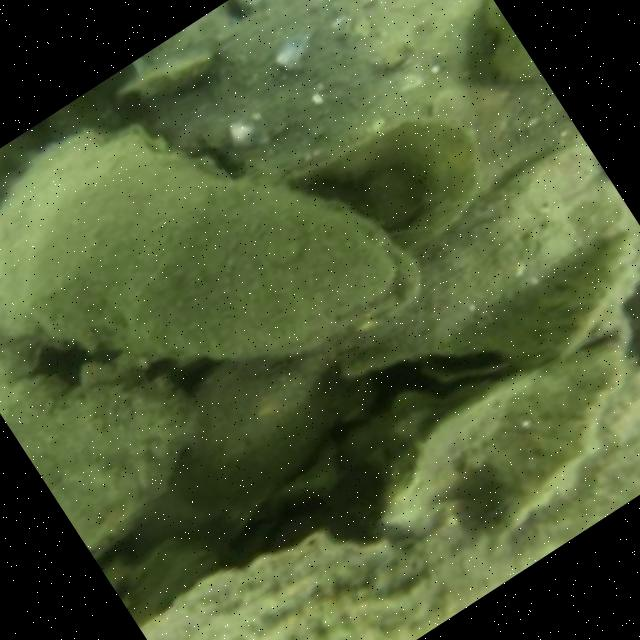Oyster-Closed: (141, 364, 640, 640), (33, 134, 413, 364), (337, 141, 640, 371), (344, 338, 640, 512), (136, 0, 450, 153), (3, 376, 193, 556), (175, 357, 335, 517), (495, 224, 640, 368)
